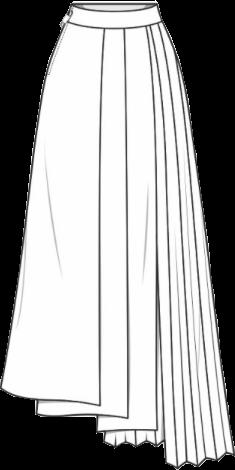Hemline: (0, 29, 161, 433), (102, 438, 234, 469)
Waistline: (64, 15, 164, 33), (68, 2, 155, 14)
